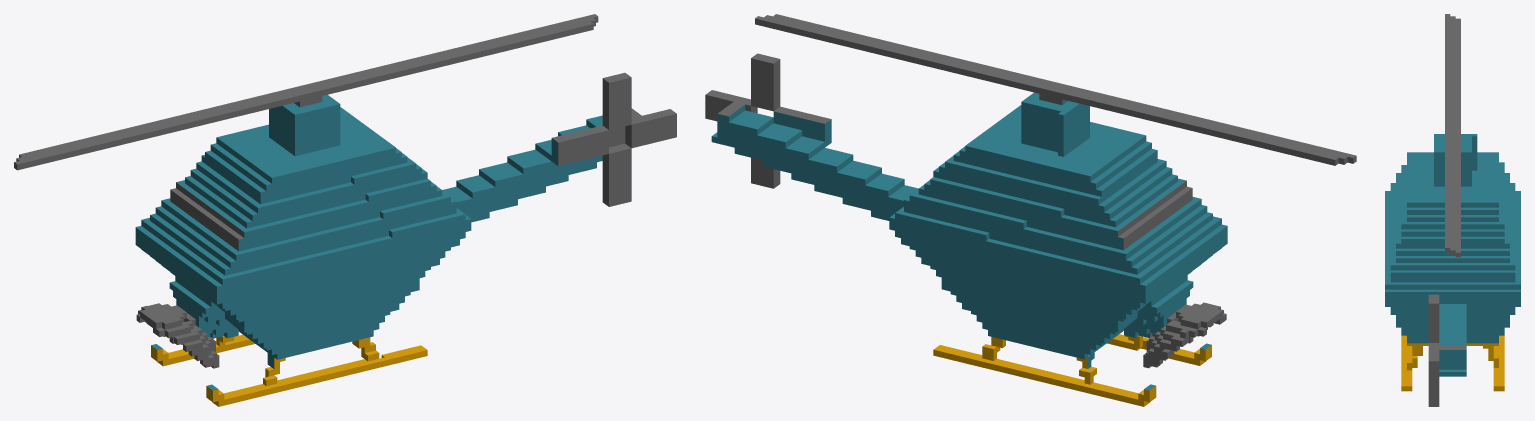
File: Bezzaogowy_smigowiec_P.U.T.A.S.fbx
The picture shows the model from 3 angles, left to right: view 1: azimuth 30°, elevation 25°; view 2: azimuth 150°, elevation 25°; view 3: azimuth 270°, elevation 25°; orthographic projection. The views are drawn at different scales.
Visible parts, largest first — view 1: Cube.001; view 2: Cube.001; view 3: Cube.001.
Part boxes in pixels (x1,y1,x2,y2): Cube.001: (14,14,676,406); Cube.001: (705,14,1356,406); Cube.001: (1385,14,1520,406).
Size of the model in its own units: 1473 by 577 by 320.
